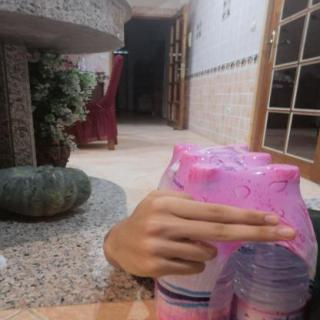AYN: (95, 188, 307, 289)
